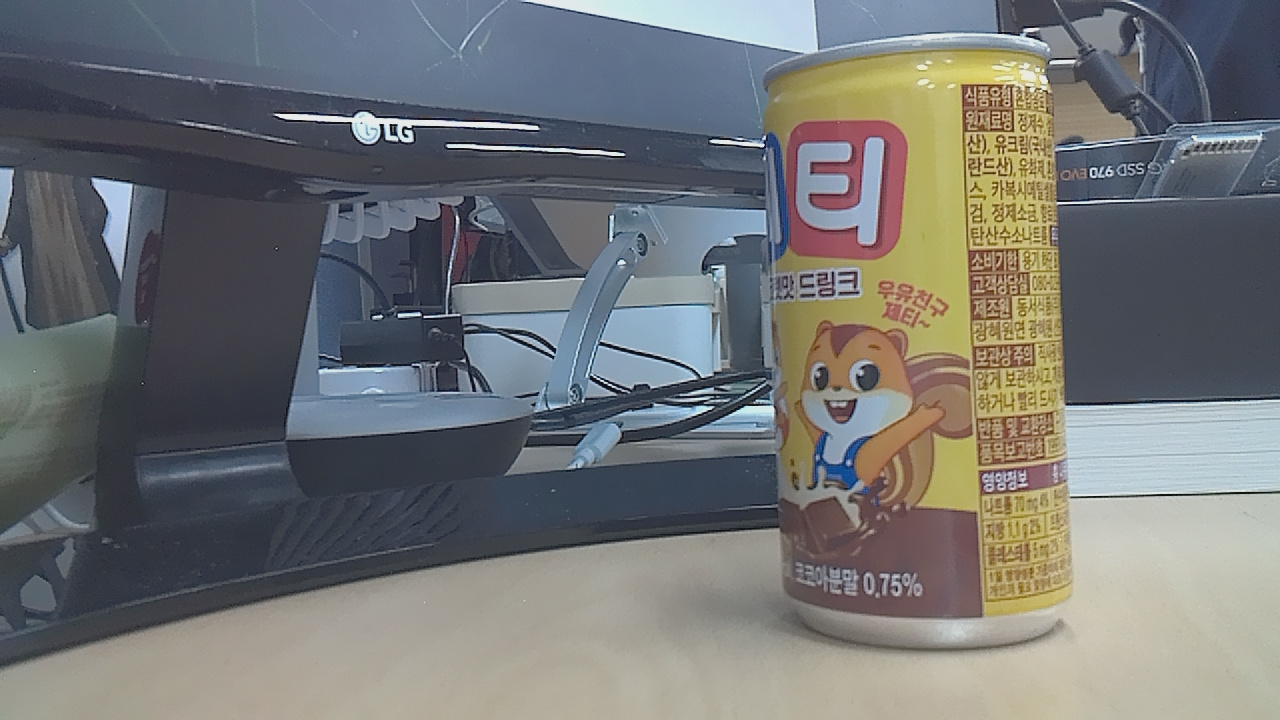jetty: (746, 21, 1093, 669)
